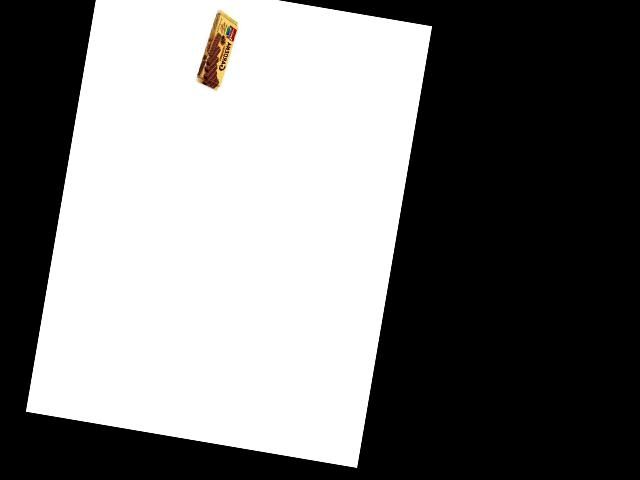chocolate: (197, 6, 241, 96)
